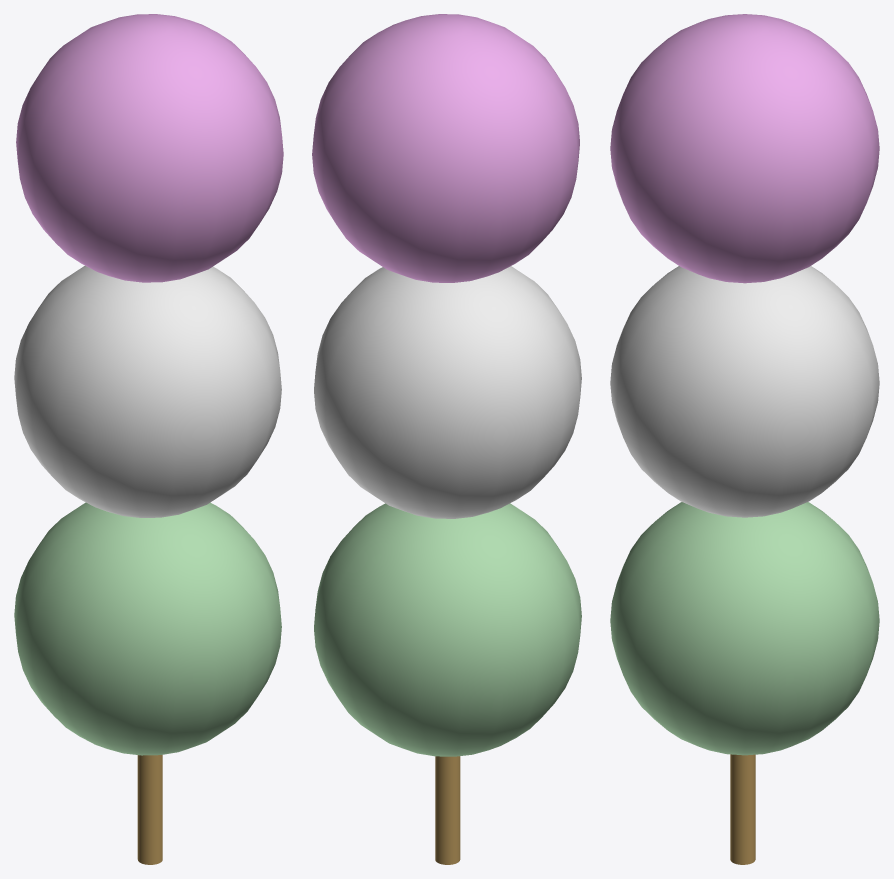
File: dango.fbx
3 renders of one model, left to right at view 1: azimuth 30°, elevation 25°; view 2: azimuth 150°, elevation 25°; view 3: azimuth 270°, elevation 25°, orthographic.
Parts seen in each view (by area): view 1: pasted__pasted__pasted__pSphere3 (×2), pasted__pasted__pSphere3, pasted__pCylinder1; view 2: pasted__pasted__pasted__pSphere3 (×2), pasted__pasted__pSphere3, pasted__pCylinder1; view 3: pasted__pasted__pasted__pSphere3 (×2), pasted__pasted__pSphere3, pasted__pCylinder1.
Boxes of the visible parts, bbox=[...] form: pasted__pasted__pasted__pSphere3 (×2): bbox=[14, 14, 283, 755]; pasted__pasted__pSphere3: bbox=[14, 266, 281, 517]; pasted__pCylinder1: bbox=[137, 755, 162, 864]; pasted__pasted__pasted__pSphere3 (×2): bbox=[312, 14, 581, 756]; pasted__pasted__pSphere3: bbox=[314, 266, 581, 518]; pasted__pCylinder1: bbox=[435, 756, 460, 864]; pasted__pasted__pasted__pSphere3 (×2): bbox=[610, 14, 879, 755]; pasted__pasted__pSphere3: bbox=[610, 266, 879, 517]; pasted__pCylinder1: bbox=[730, 754, 755, 864].
Size of the model in its own units: 0.6298 by 2.13 by 0.625.
